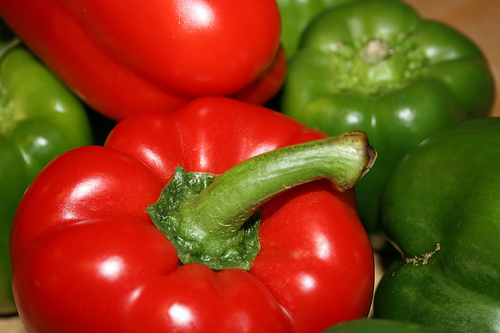capsicum: (9, 97, 374, 332), (287, 1, 496, 234), (0, 0, 287, 124), (0, 41, 92, 320)
